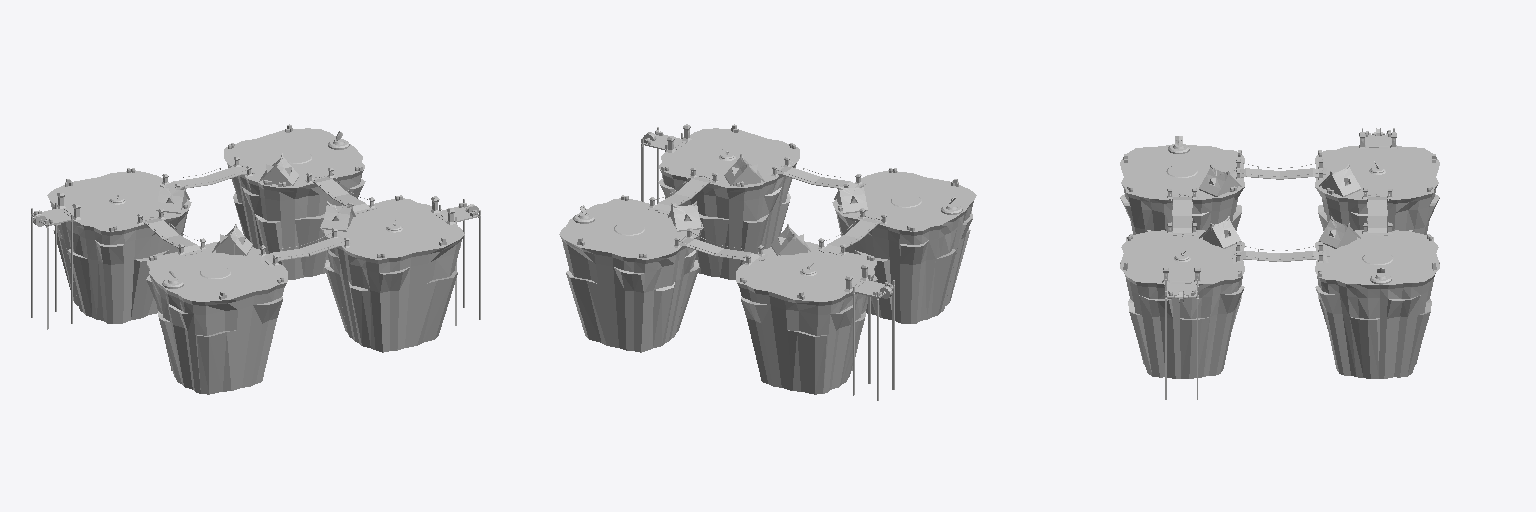
Rendered from winter_arena_object.obj.
3 views of the same model, side by side, from view 1: azimuth 30°, elevation 25°; view 2: azimuth 150°, elevation 25°; view 3: azimuth 270°, elevation 25° (orthographic).
Visible parts, largest first — view 1: Cylinder.003_Cylinder.074, Cube, Cube.002_Cube.003, Plane.001, Plane.000_Plane.007, Shield_Cube.058, Cylinder_Cylinder.010; view 2: Cylinder.003_Cylinder.074, Cube.002_Cube.003, Cube, Plane.001, Plane.000_Plane.007, Cylinder_Cylinder.010, Shield_Cube.058; view 3: Cylinder.003_Cylinder.074, Cube.002_Cube.003, Plane.000_Plane.007, Plane.001, Cube, Shield_Cube.058, Cylinder_Cylinder.010.
Part boxes in pixels (left/top/right/bottom): Cylinder.003_Cylinder.074: left=47, top=128, right=464, bottom=394; Cube: left=31, top=191, right=480, bottom=329; Cube.002_Cube.003: left=156, top=153, right=355, bottom=255; Plane.001: left=162, top=156, right=349, bottom=265; Plane.000_Plane.007: left=137, top=167, right=374, bottom=254; Shield_Cube.058: left=158, top=131, right=353, bottom=290; Cylinder_Cylinder.010: left=200, top=151, right=311, bottom=278; Cylinder.003_Cylinder.074: left=559, top=128, right=976, bottom=394; Cube.002_Cube.003: left=668, top=153, right=867, bottom=255; Cube: left=641, top=124, right=894, bottom=400; Plane.001: left=674, top=156, right=861, bottom=265; Plane.000_Plane.007: left=649, top=167, right=886, bottom=254; Cylinder_Cylinder.010: left=614, top=194, right=921, bottom=235; Shield_Cube.058: left=569, top=197, right=966, bottom=225; Cylinder.003_Cylinder.074: left=1120, top=145, right=1439, bottom=378; Cube.002_Cube.003: left=1199, top=164, right=1360, bottom=248; Plane.000_Plane.007: left=1236, top=159, right=1323, bottom=262; Plane.001: left=1167, top=188, right=1392, bottom=233; Cube: left=1162, top=128, right=1397, bottom=399; Shield_Cube.058: left=1164, top=136, right=1395, bottom=284; Cylinder_Cylinder.010: left=1166, top=165, right=1393, bottom=264.
Bounding box in the file's own units: 431 × 149 × 347.